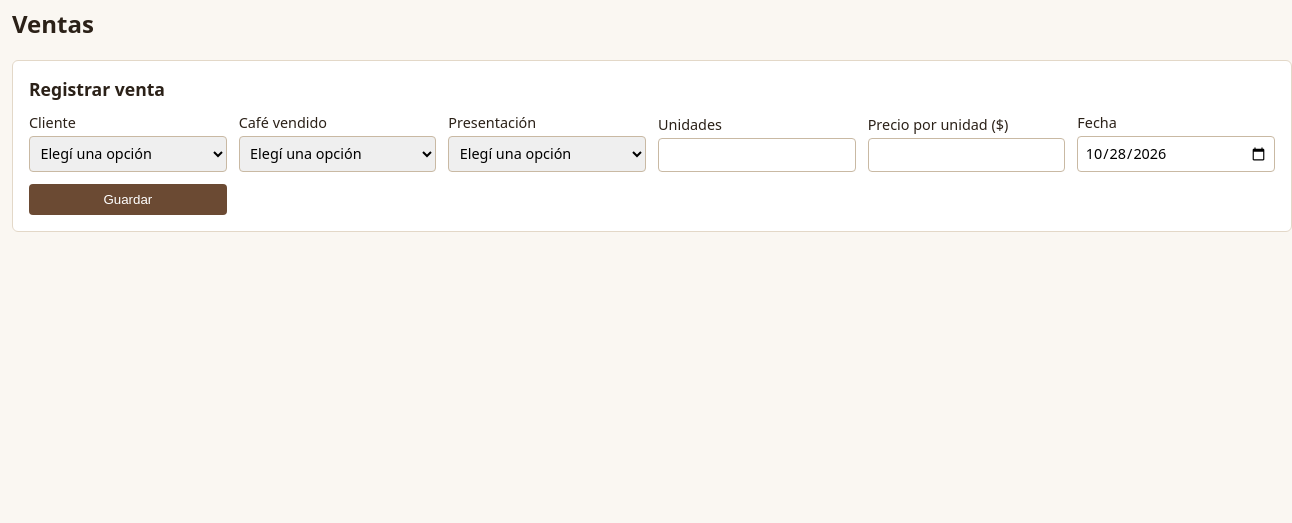
Test: Página de ventas › muestra la ganancia y el margen negativos
Select "Bar Central" in the dropdown labelled "Cliente" at (128, 154), box x1=29 y1=136 x2=227 y2=172
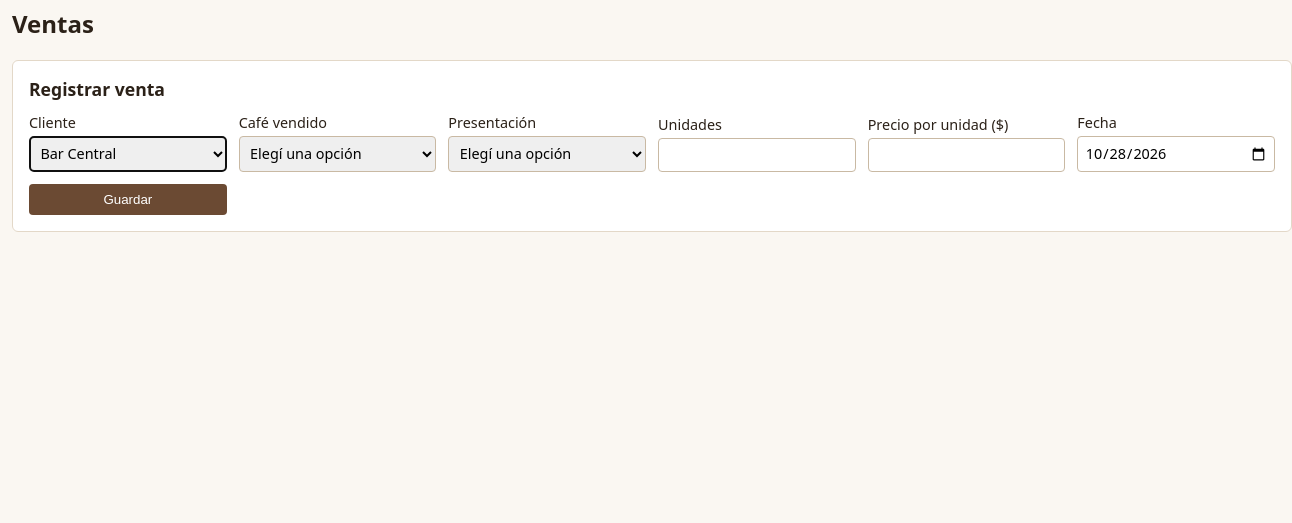
Select "Colombia" in the dropdown labelled "Café vendido" at (338, 154), box x1=239 y1=136 x2=436 y2=172
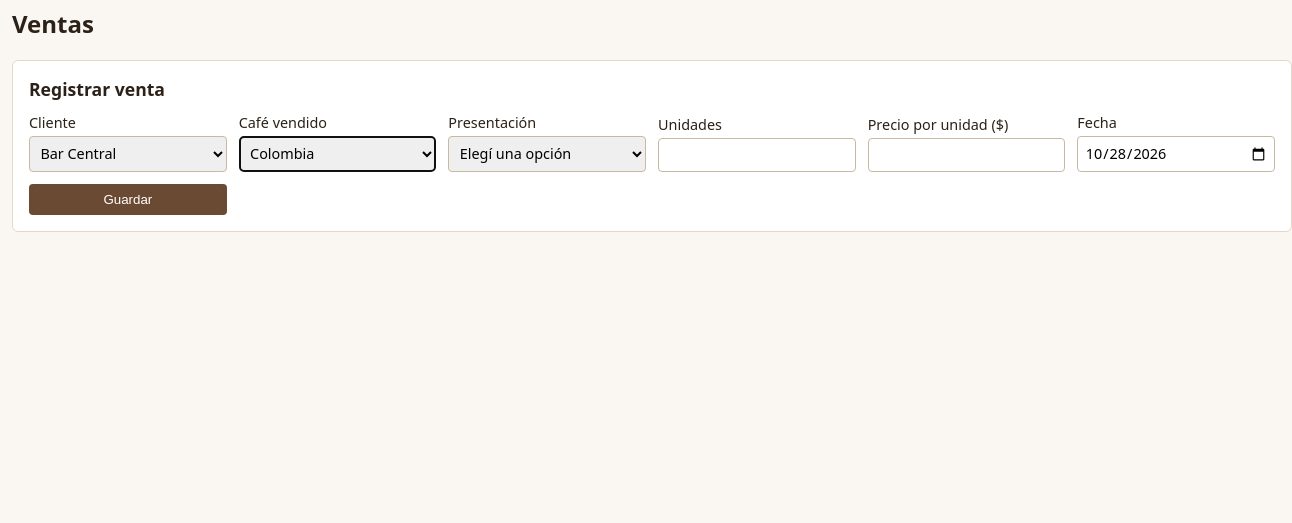
Select "Bolsa 250 g" in the dropdown labelled "Presentación" at (547, 154), box x1=448 y1=136 x2=646 y2=172
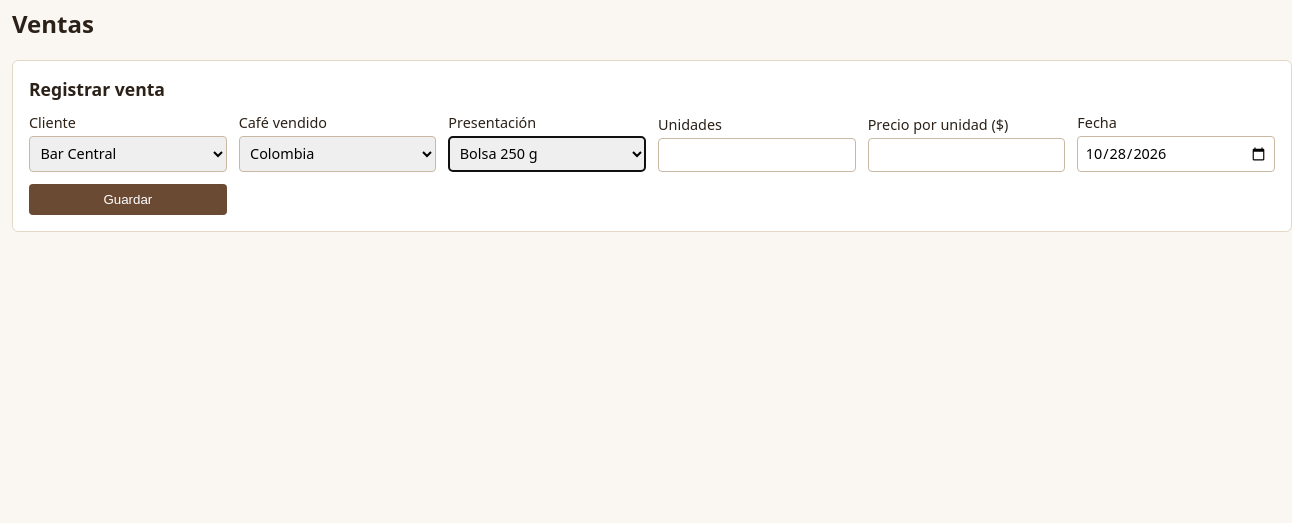
Type "4" into the field labelled "Unidades" at (757, 155), box x1=658 y1=138 x2=856 y2=172
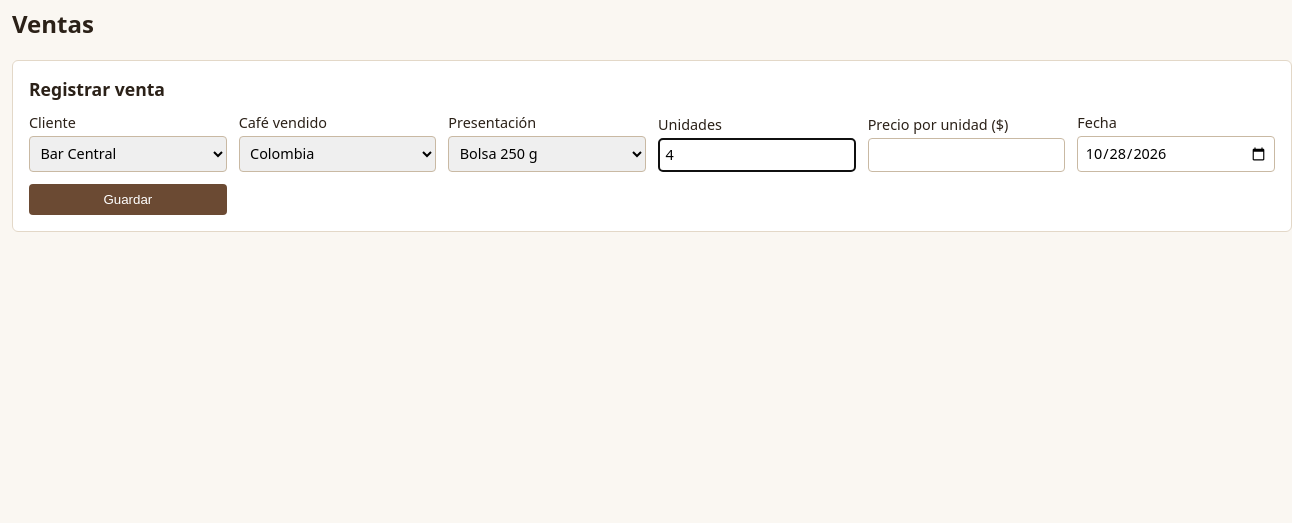
Type "1" into the field labelled "Precio por unidad ($)" at (967, 155), box x1=868 y1=138 x2=1065 y2=172
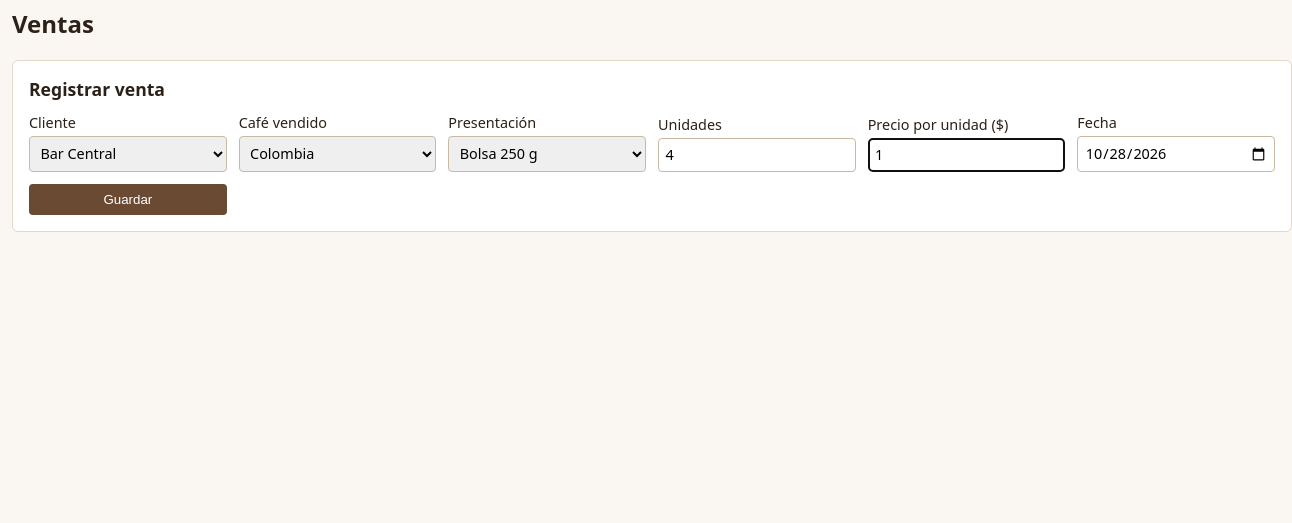
Click the button "Guardar" at (128, 199), box x1=29 y1=184 x2=227 y2=215
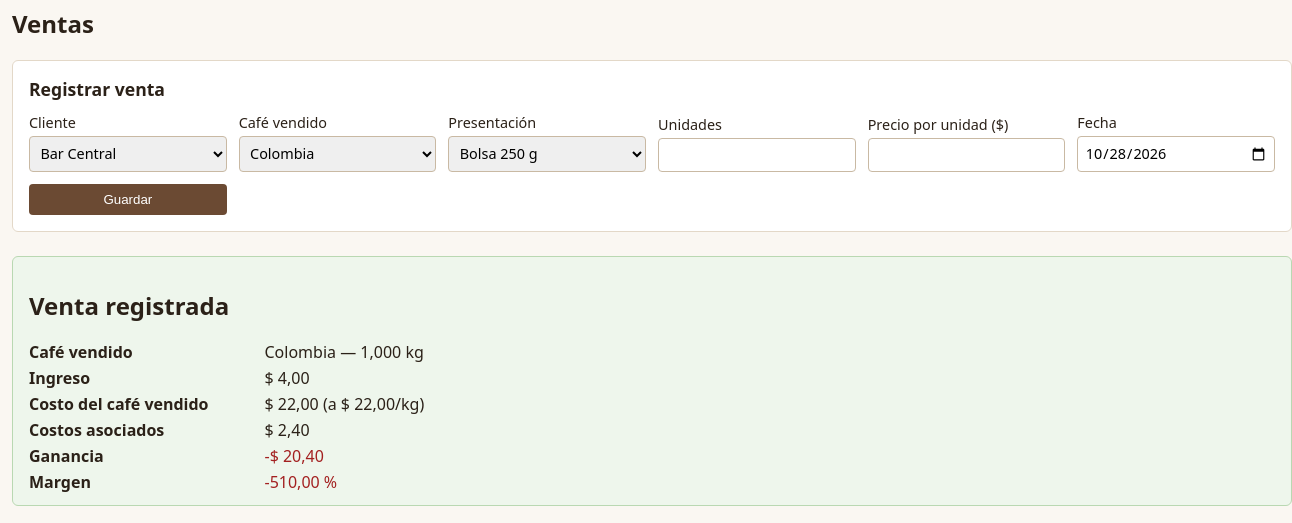
Expected: the element named "Resultado de la venta" shows "-510,00 %", x1=264 y1=471 x2=337 y2=493
